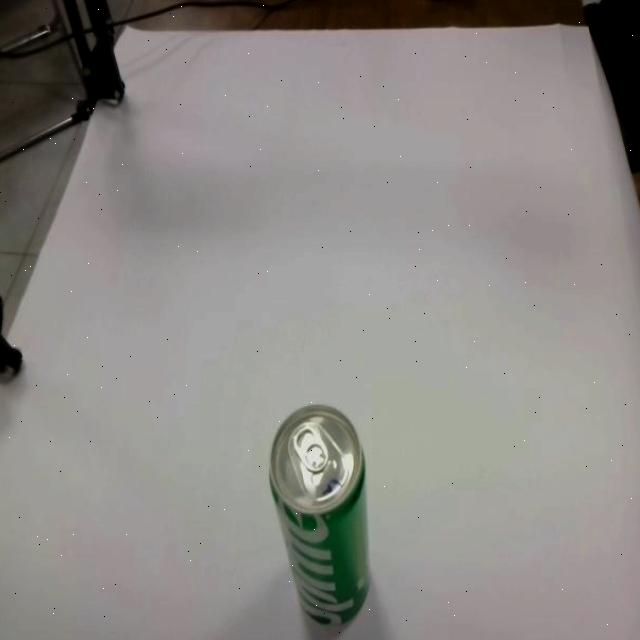debris: (268, 402, 371, 627)
